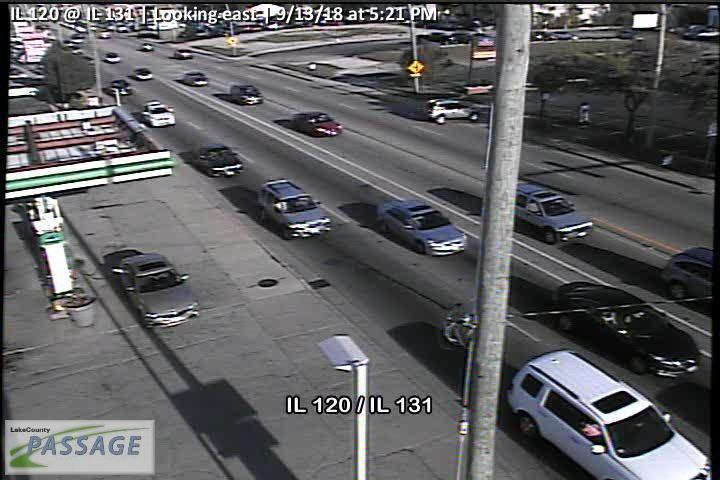SUV: (506, 348, 711, 480), (257, 178, 332, 240), (423, 97, 481, 124), (141, 99, 175, 127), (229, 84, 263, 105), (184, 70, 208, 86), (111, 80, 132, 96), (133, 67, 153, 81), (104, 51, 122, 63), (173, 49, 192, 60)
Sedan: (551, 280, 701, 377), (486, 180, 594, 245), (113, 252, 201, 329), (375, 198, 468, 257), (195, 144, 244, 177), (293, 111, 343, 137)
